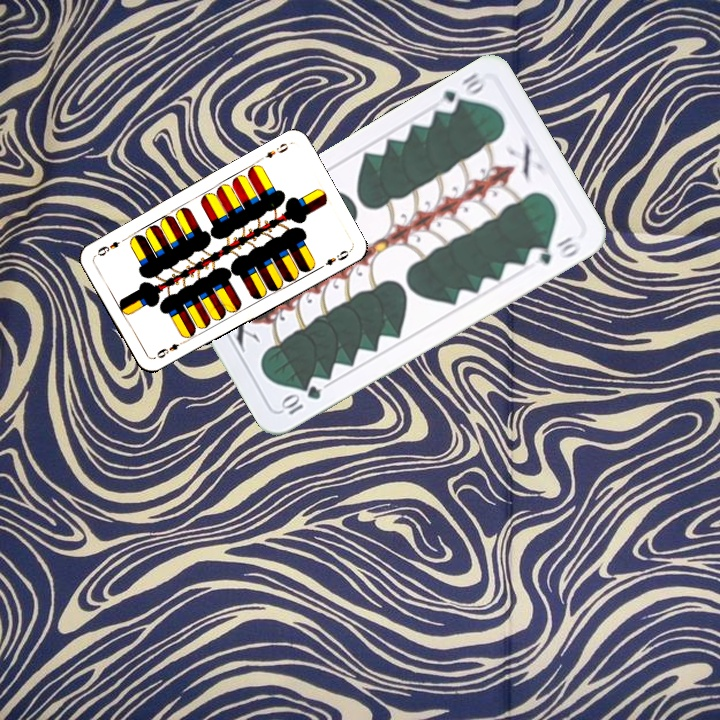E9: (255, 139, 291, 163), (153, 337, 188, 361)
G10: (436, 69, 487, 116), (277, 381, 324, 418)
